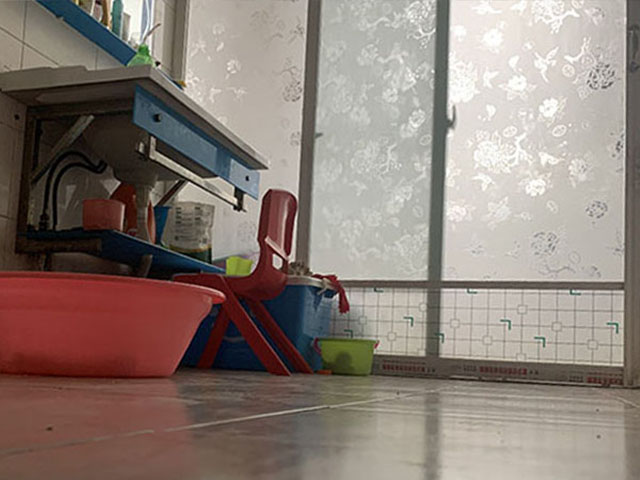stool: (171, 188, 313, 378)
